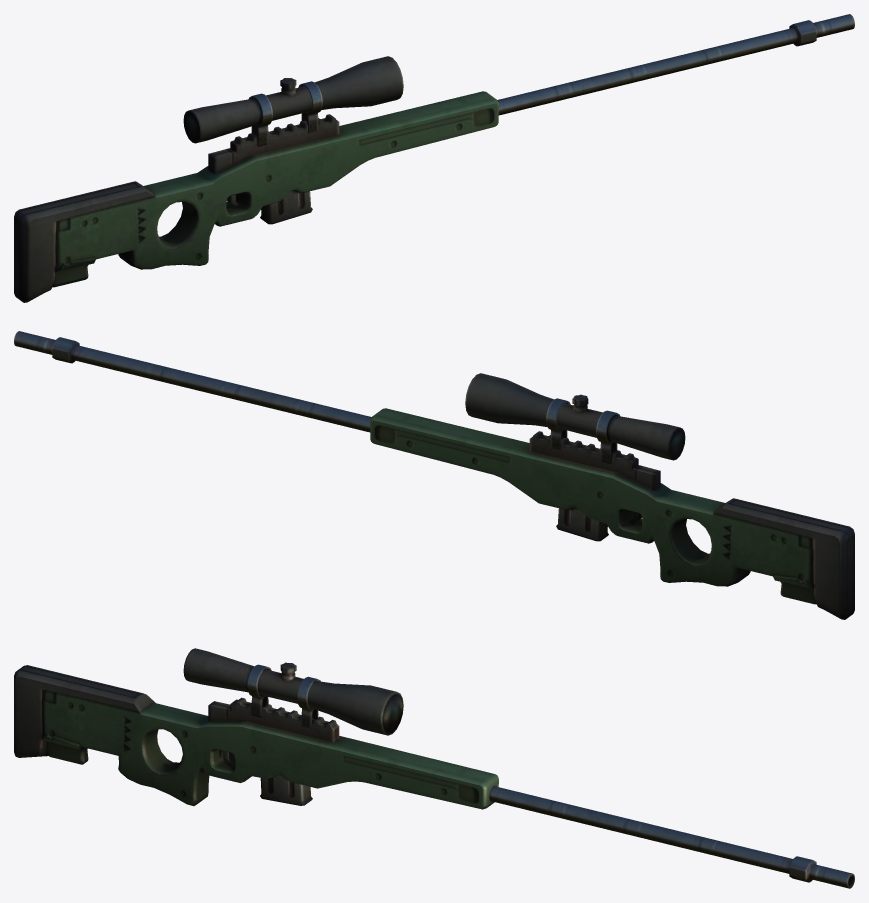
Rendered from styloo_awp.glb.
3 views of the same model, one above another, from view 1: azimuth 30°, elevation 25°; view 2: azimuth 150°, elevation 25°; view 3: azimuth 330°, elevation 25° (orthographic).
Parts seen in each view (by area): view 1: awp, sniperscope_low, snipermagazine_low, snipertendon_low, snipertendon_low.001; view 2: awp, sniperscope_low, snipermagazine_low, snipertendon_low, snipertendon_low.001; view 3: awp, sniperscope_low, snipermagazine_low, snipertendon_low, snipertendon_low.001.
Part boxes in pixels (x1,y1,x2,y2): awp: (14,14,854,302); sniperscope_low: (183,56,403,143); snipermagazine_low: (260,190,312,224); snipertendon_low: (249,93,272,145); snipertendon_low.001: (298,81,322,133); awp: (14,331,854,619); sniperscope_low: (465,373,685,460); snipermagazine_low: (556,507,608,541); snipertendon_low: (596,410,619,462); snipertendon_low.001: (546,398,570,450); awp: (14,665,854,888); sniperscope_low: (183,648,403,735); snipermagazine_low: (260,774,312,805); snipertendon_low: (247,664,271,716); snipertendon_low.001: (297,676,320,728).
Bounding box in the file's own units: 1.13 × 0.2043 × 0.0525.
1 material, 1 textured.
